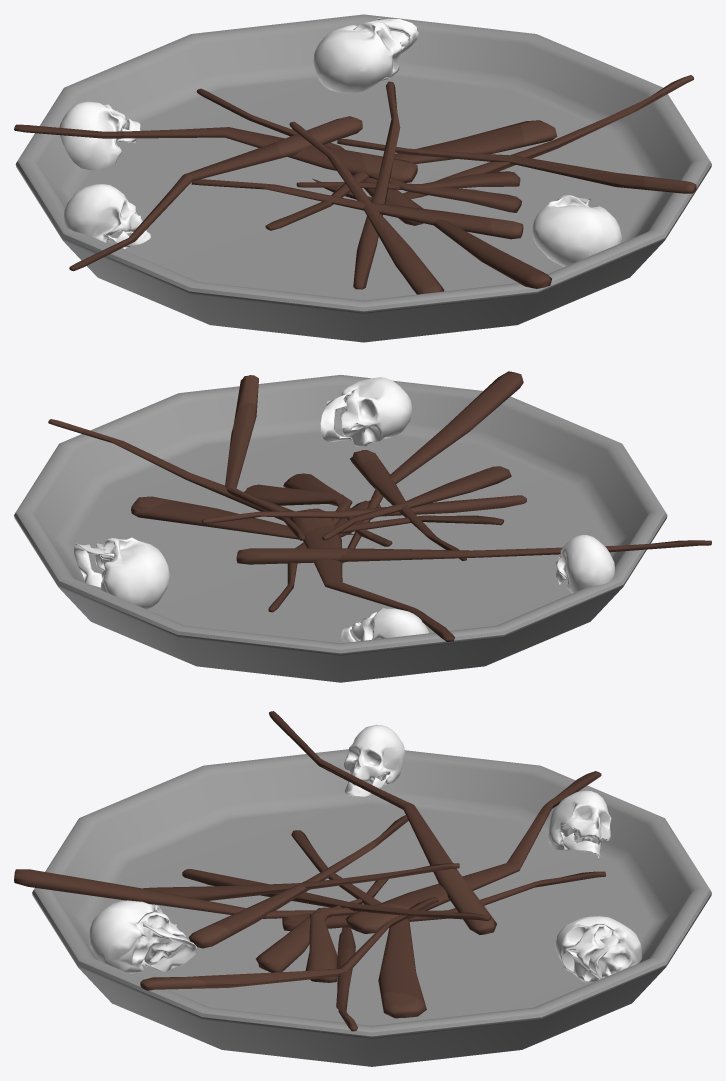
The model's file is SM_BigLantern.fbx.
3 renders of one model, top to bottom at view 1: azimuth 30°, elevation 25°; view 2: azimuth 150°, elevation 25°; view 3: azimuth 270°, elevation 25°, orthographic. The views are drawn at different scales.
Parts seen in each view (by area): view 1: SM_BigLantern; view 2: SM_BigLantern; view 3: SM_BigLantern.
Boxes of the visible parts, x1,y1,x2,y2 form: SM_BigLantern: (14, 14, 711, 342); SM_BigLantern: (14, 371, 711, 682); SM_BigLantern: (14, 711, 711, 1066).
Bounding box in the file's own units: 293 × 37.96 × 273.
